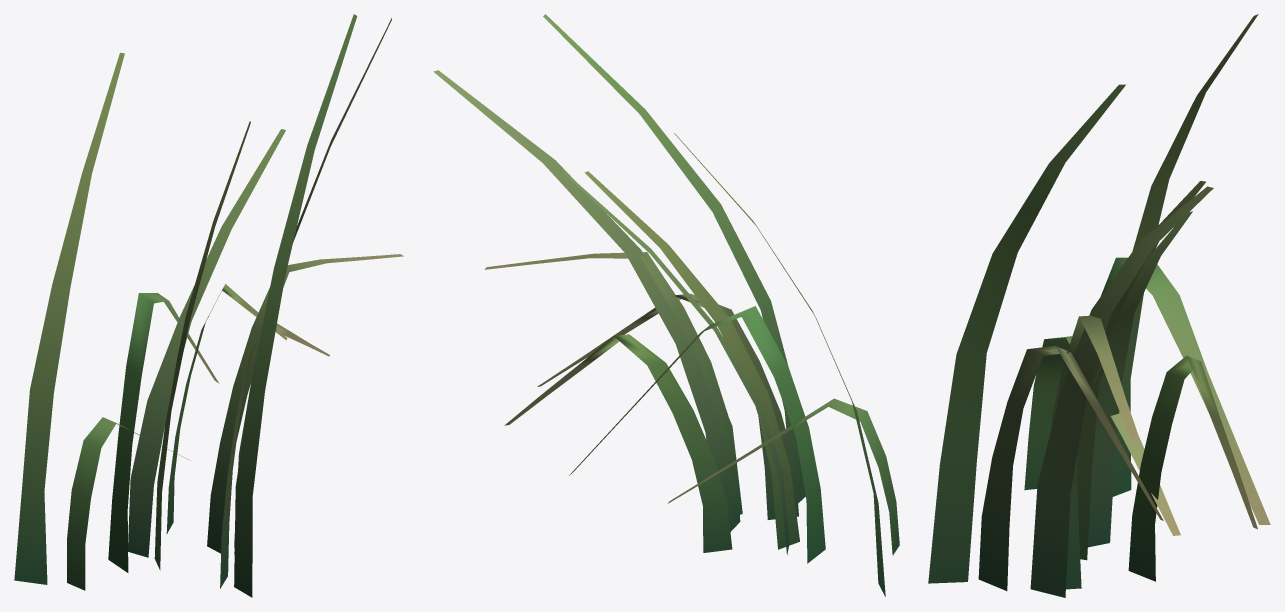
File: env_grass_windswept_01.glb
3 renders of one model, left to right at view 1: azimuth 30°, elevation 25°; view 2: azimuth 150°, elevation 25°; view 3: azimuth 270°, elevation 25°, orthographic. The views are drawn at different scales.
Parts seen in each view (by area): view 1: grass_windswept; view 2: grass_windswept; view 3: grass_windswept.
Boxes of the visible parts, <box> form: grass_windswept: <box>14,14,403,597</box>; grass_windswept: <box>433,14,899,596</box>; grass_windswept: <box>928,14,1270,597</box>.
Size of the model in its own units: 0.2241 by 0.2533 by 0.1281.
